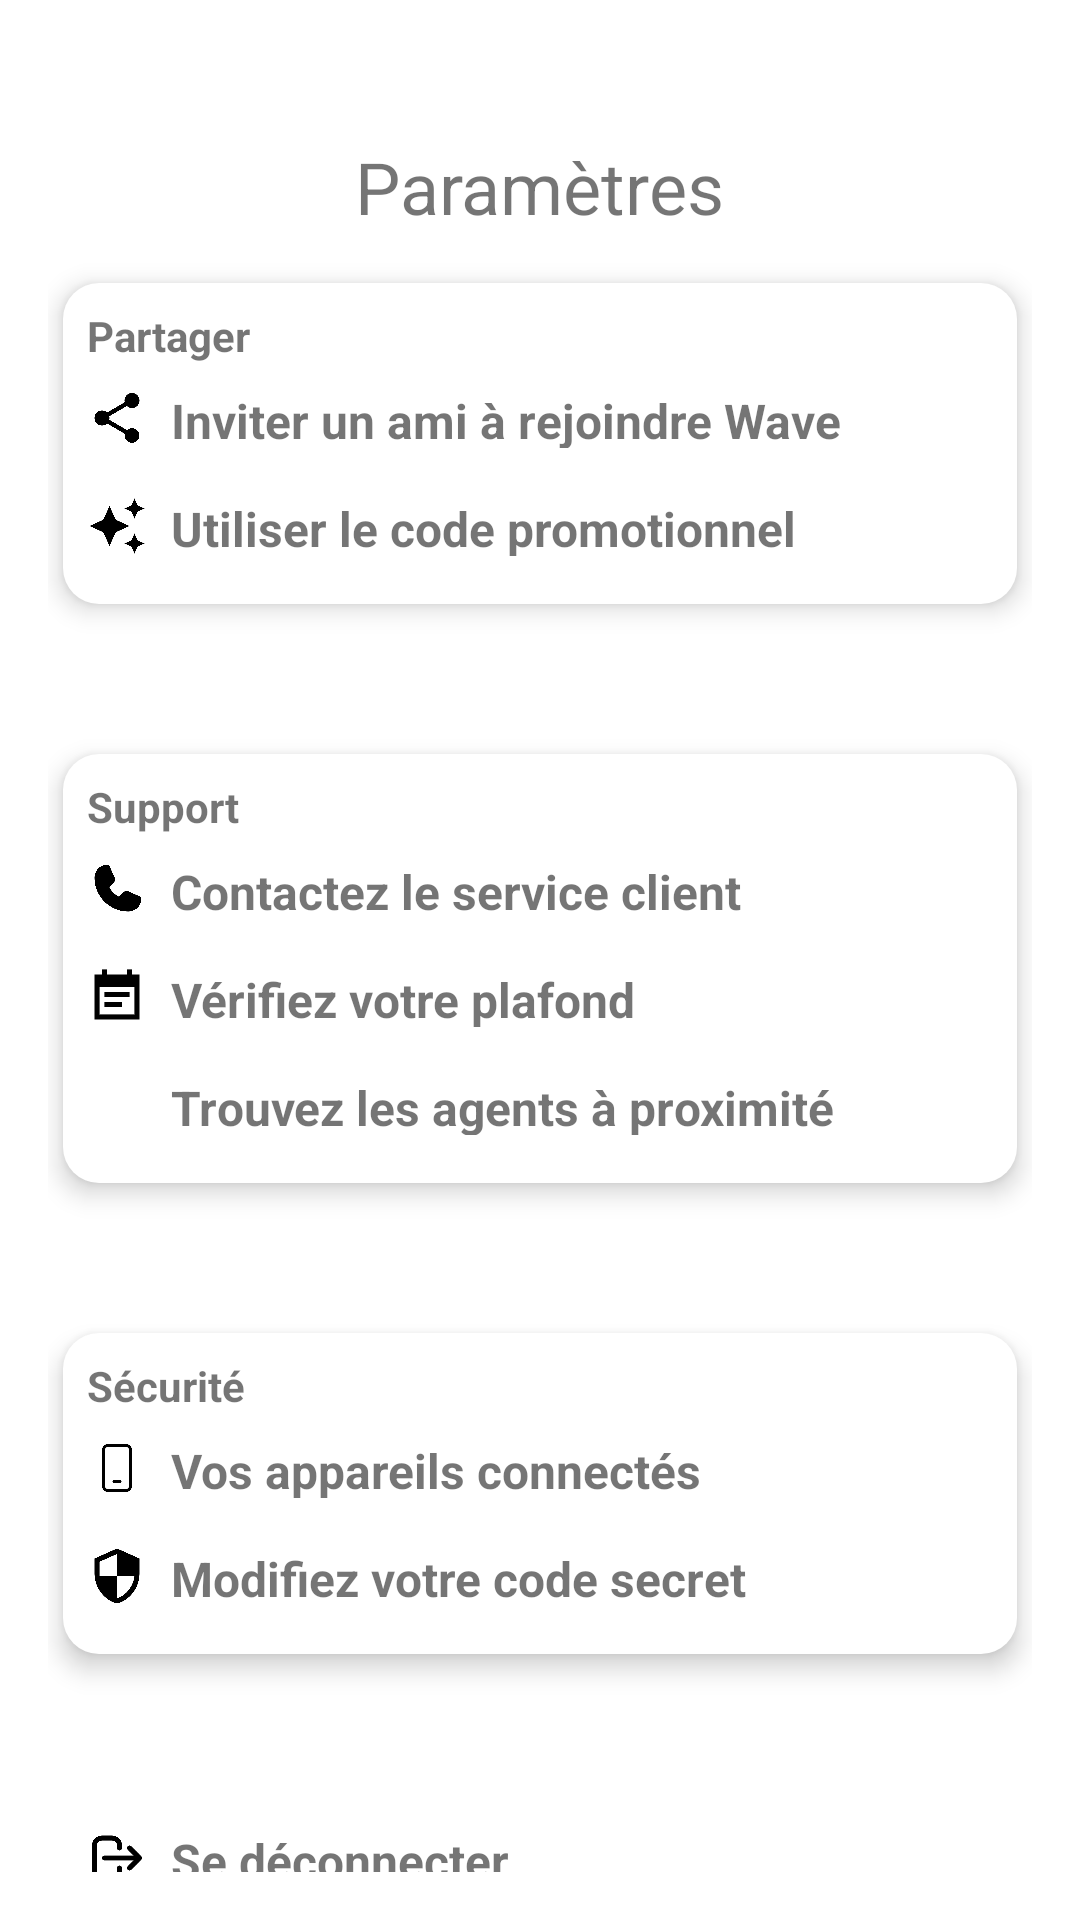

Icon bounding boxes for this 1080*1920 phone screenshot, format (x1, y1, x2, y2):
note: (94, 969, 140, 1020)
security: (94, 1549, 140, 1603)
share: (94, 393, 140, 443)
